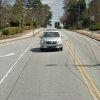Tree: (57, 0, 100, 38)
